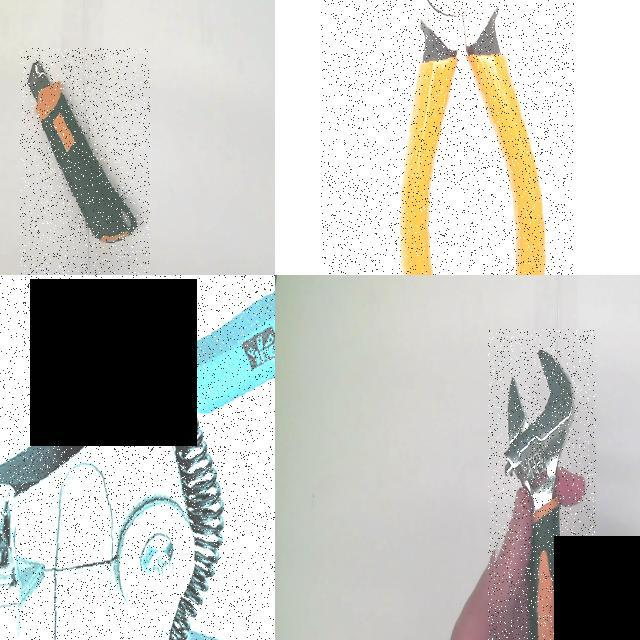estilete: (27, 61, 137, 242)
